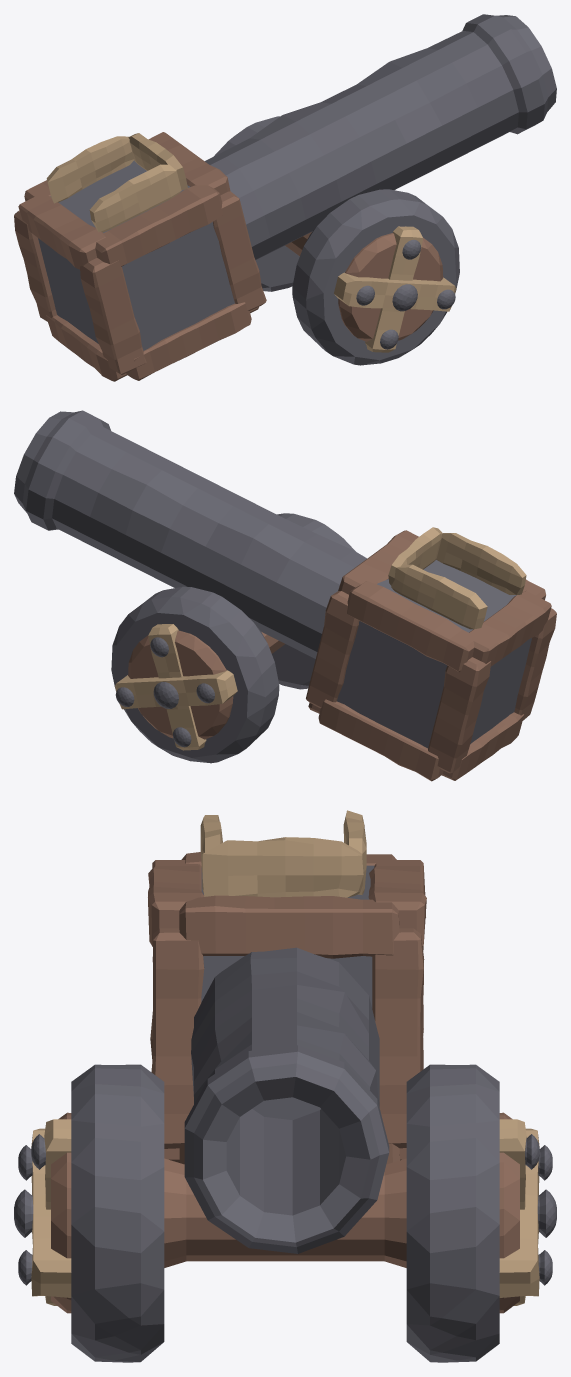
The model's file is TowerSmollCanon.fbx.
The picture shows the model from 3 angles, top to bottom: view 1: azimuth 30°, elevation 25°; view 2: azimuth 150°, elevation 25°; view 3: azimuth 270°, elevation 25°; orthographic projection. The views are drawn at different scales.
Visible parts, largest first — view 1: Canon, Wheels; view 2: Canon, Wheels; view 3: Canon, Wheels.
Part boxes in pixels (x1,y1,x2,y2): Canon: [14, 14, 556, 381]; Wheels: [214, 116, 459, 365]; Canon: [14, 410, 556, 781]; Wheels: [111, 513, 355, 763]; Canon: [148, 810, 426, 1253]; Wheels: [14, 1064, 556, 1362].
Bounding box in the file's own units: 628 × 318 × 359.
